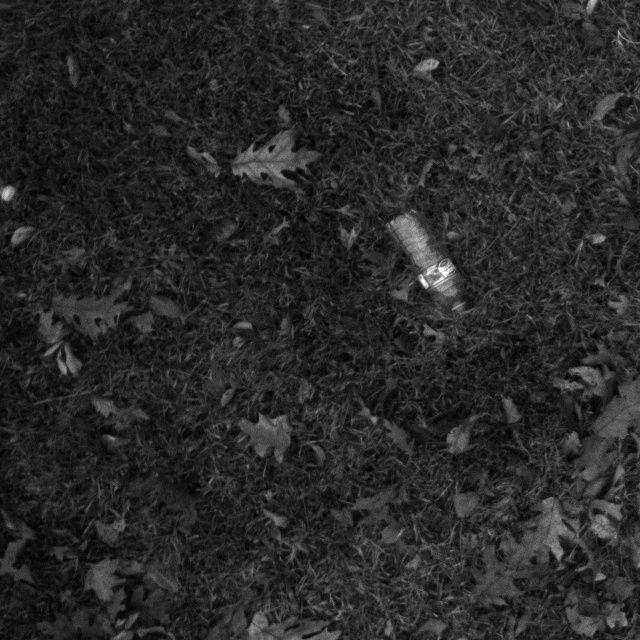bottle: (382, 206, 482, 331)
